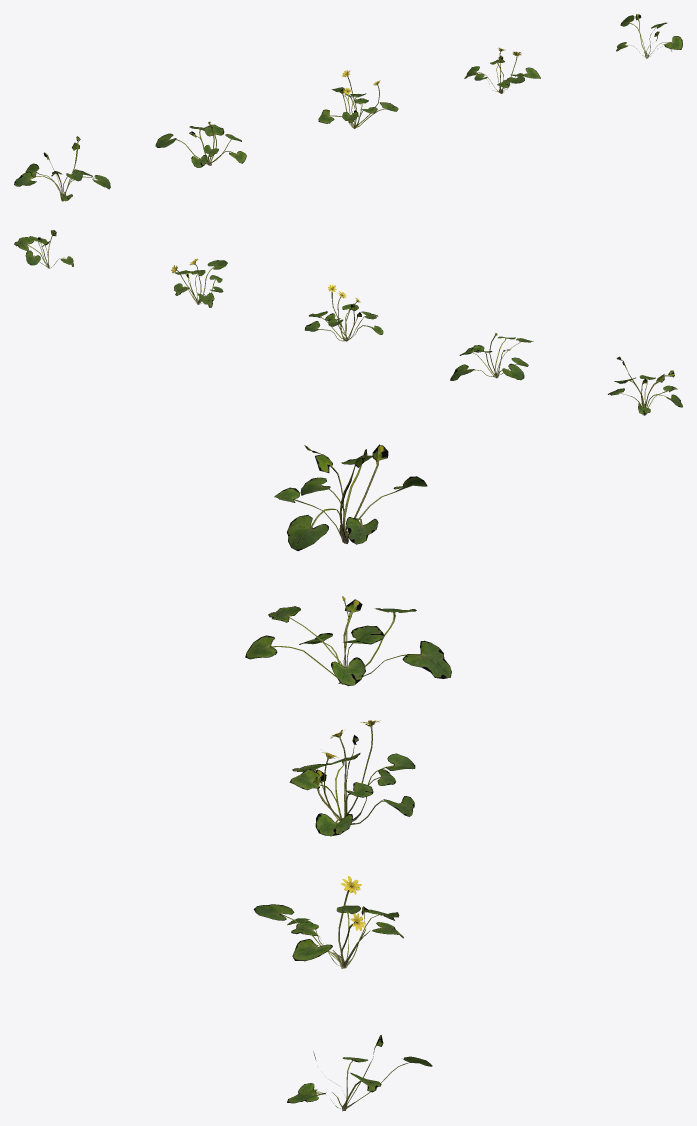
The model's file is WorldFlowerB.obj.
3 views of the same model, one above another, from view 1: azimuth 30°, elevation 25°; view 2: azimuth 150°, elevation 25°; view 3: azimuth 270°, elevation 25° (orthographic). The views are drawn at different scales.
Parts seen in each view (by area): view 1: WorldFlowerB; view 2: WorldFlowerB; view 3: WorldFlowerB.
Part boxes in pixels (x1,y1,x2,y2): WorldFlowerB: (14,14,682,201); WorldFlowerB: (14,230,682,415); WorldFlowerB: (245,444,451,1111).
Bounding box in the file's own units: 8.43 × 0.7 × 1.16.
